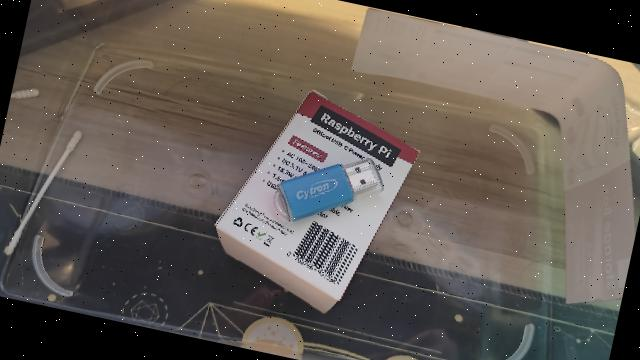charger_box: (200, 70, 428, 318)
sdcard_reader: (267, 148, 364, 233)
